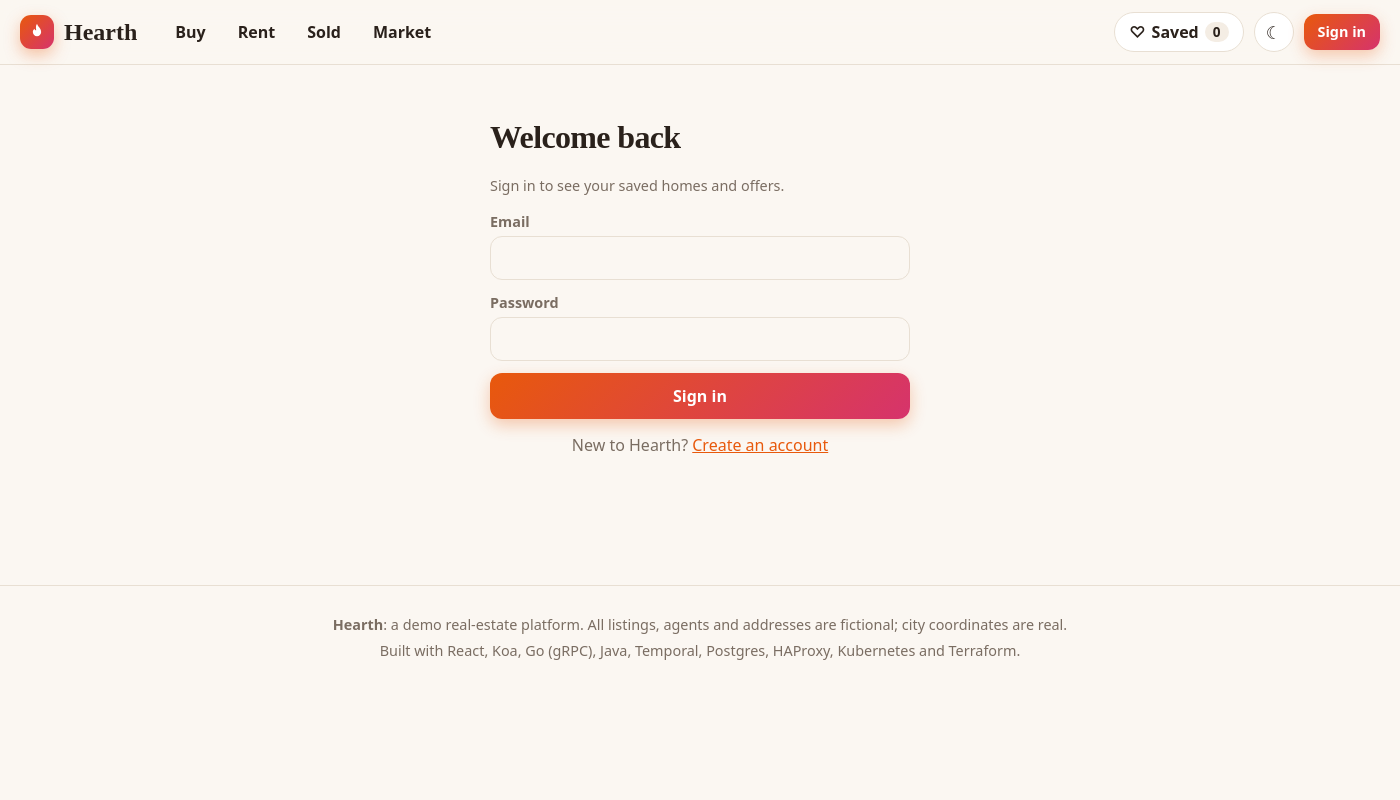
Test case: accounts and offers (network stubbed) › shows the server error for wrong credentials
Type "x@example.com" into the field named "email" at (700, 258), box [490,236,910,280]
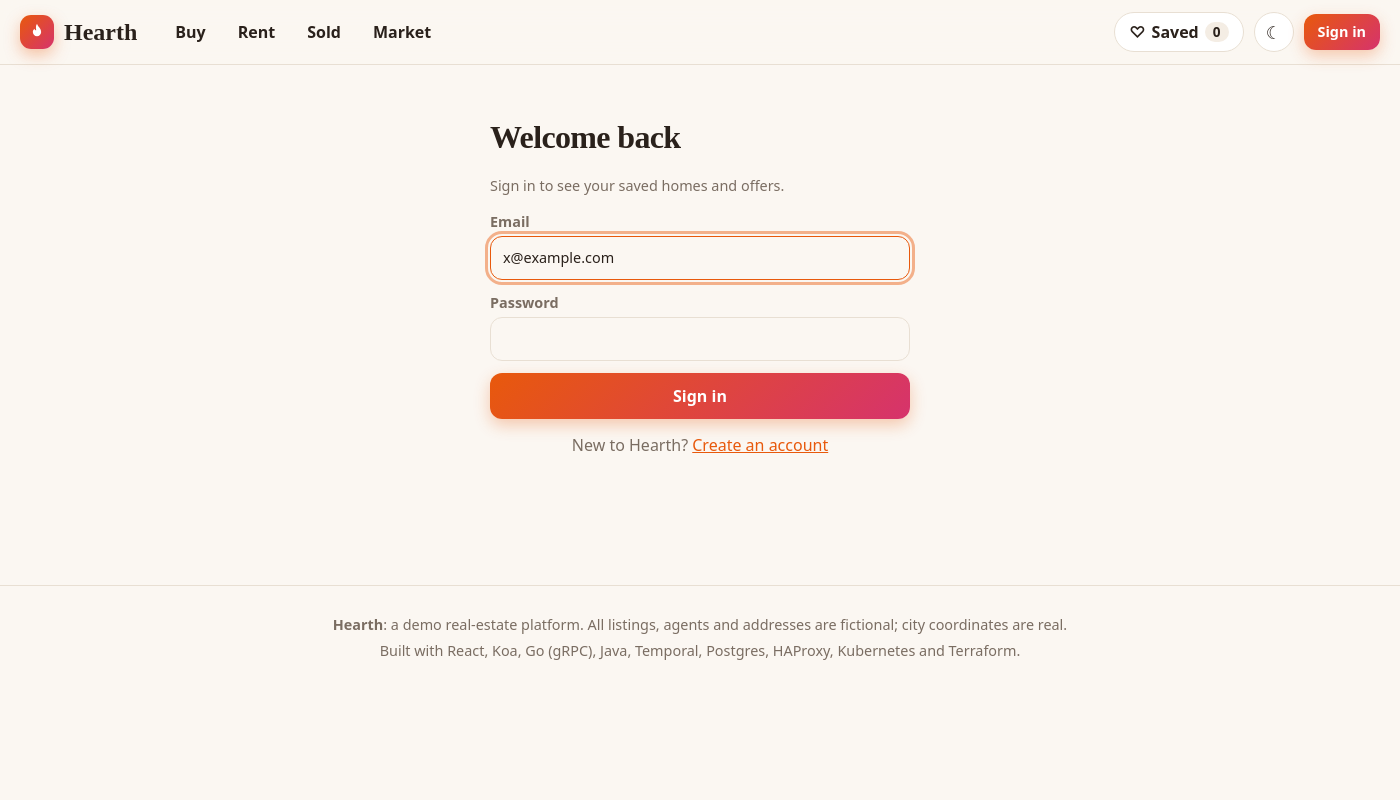
Type "whatever" into the password field named "password" at (700, 339), box [490,317,910,361]
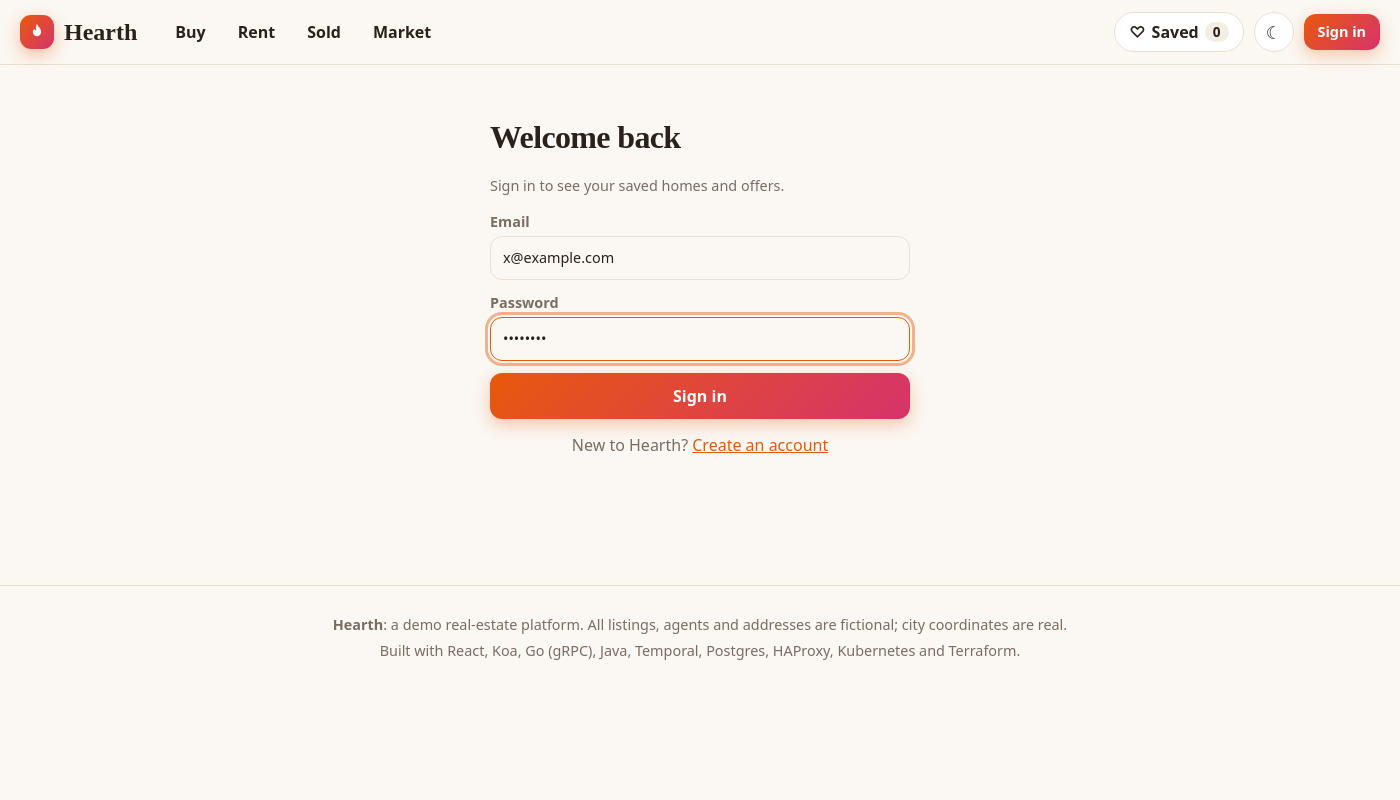
Click the button with test id "auth-submit" at (700, 396), box [490,373,910,419]
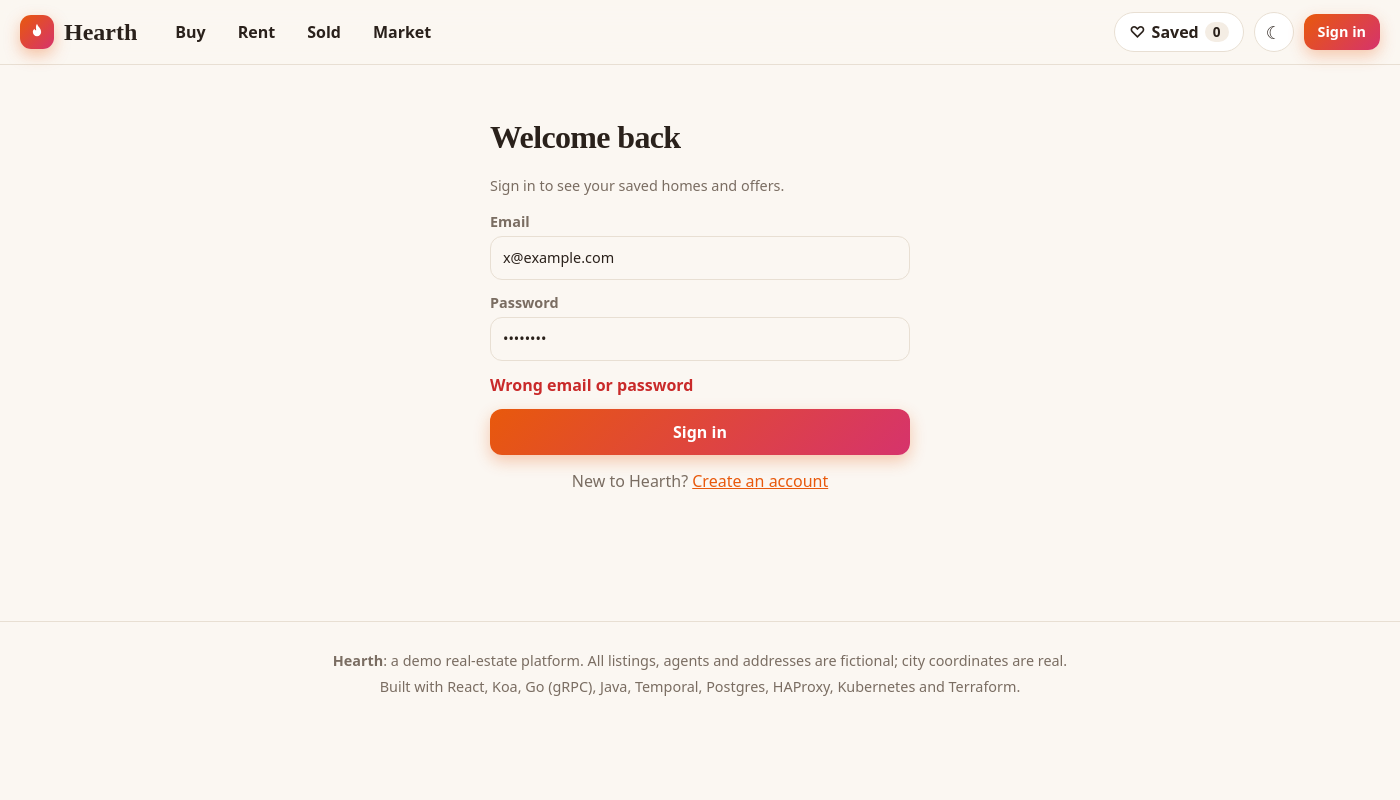
Expected: the message with test id "auth-error" reads "Wrong email or password", [490,374,693,396]
